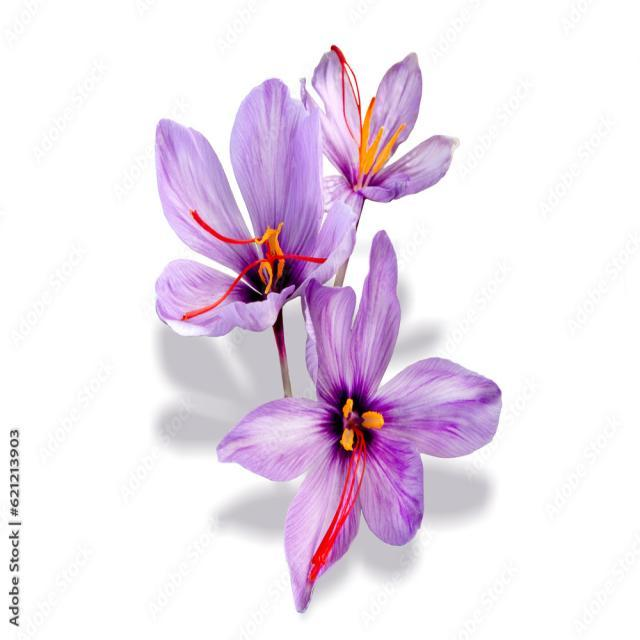Flower: (217, 228, 502, 616), (152, 76, 364, 341), (310, 46, 460, 203)
stigma: (306, 423, 370, 584), (307, 426, 363, 565), (328, 44, 368, 191), (180, 257, 264, 321), (188, 207, 261, 246), (265, 254, 331, 264)
